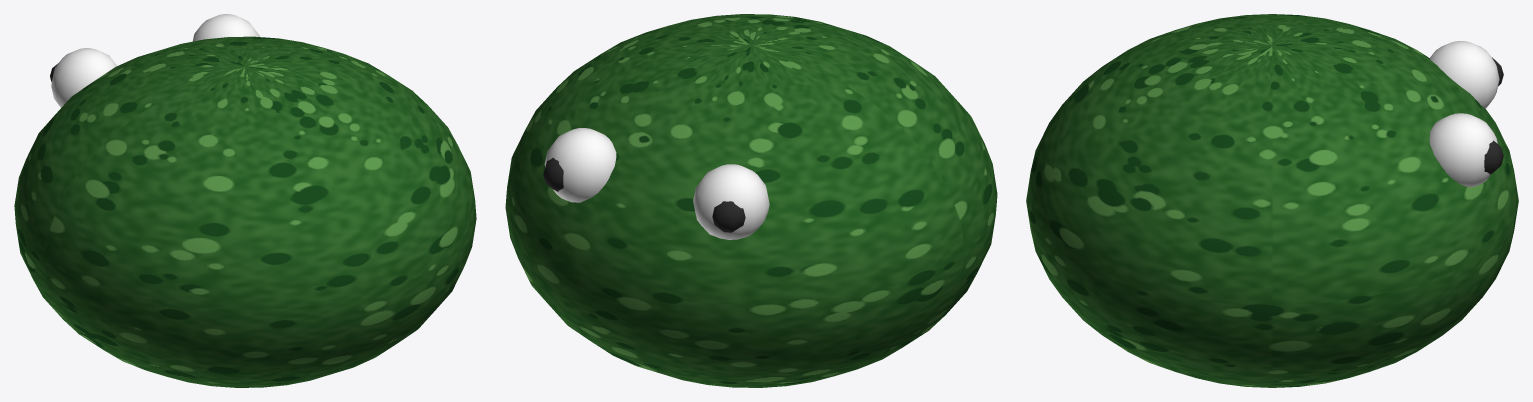
File: mire-pudding.glb
3 views of the same model, side by side, from view 1: azimuth 30°, elevation 25°; view 2: azimuth 150°, elevation 25°; view 3: azimuth 270°, elevation 25° (orthographic). The views are drawn at different scales.
Visible parts, largest first — view 1: Body, Eye, Eye.001; view 2: Body, Eye, Eye.001, Pupil, Pupil.001; view 3: Body, Eye.001, Eye, Pupil.001.
Part boxes in pixels (box(x1,y1,x2,y2)): Body: box(14, 36, 476, 387); Eye: box(51, 48, 116, 107); Eye.001: box(192, 14, 259, 41); Body: box(505, 14, 997, 387); Eye: box(693, 164, 769, 239); Eye.001: box(544, 128, 616, 202); Pupil: box(712, 201, 745, 232); Pupil.001: box(543, 158, 563, 191); Body: box(1026, 14, 1518, 387); Eye.001: box(1429, 113, 1497, 187); Eye: box(1429, 41, 1499, 108); Pupil.001: box(1484, 140, 1503, 174).
Size of the model in its own units: 1.44 by 1 by 1.44.
3 materials, 1 textured.
